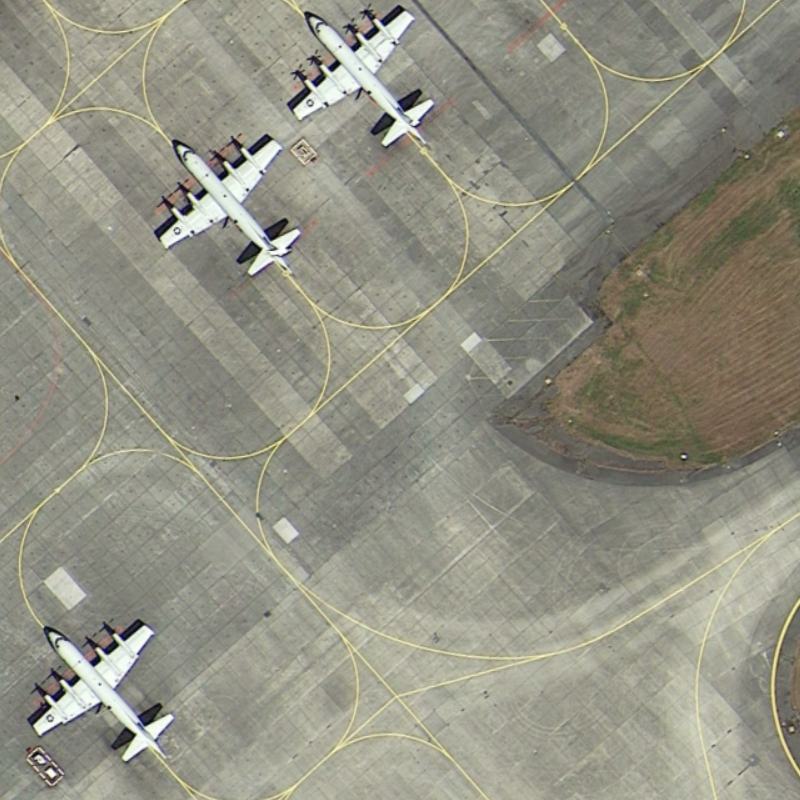A9: (22, 607, 192, 772), (278, 2, 453, 158), (151, 131, 313, 281)
